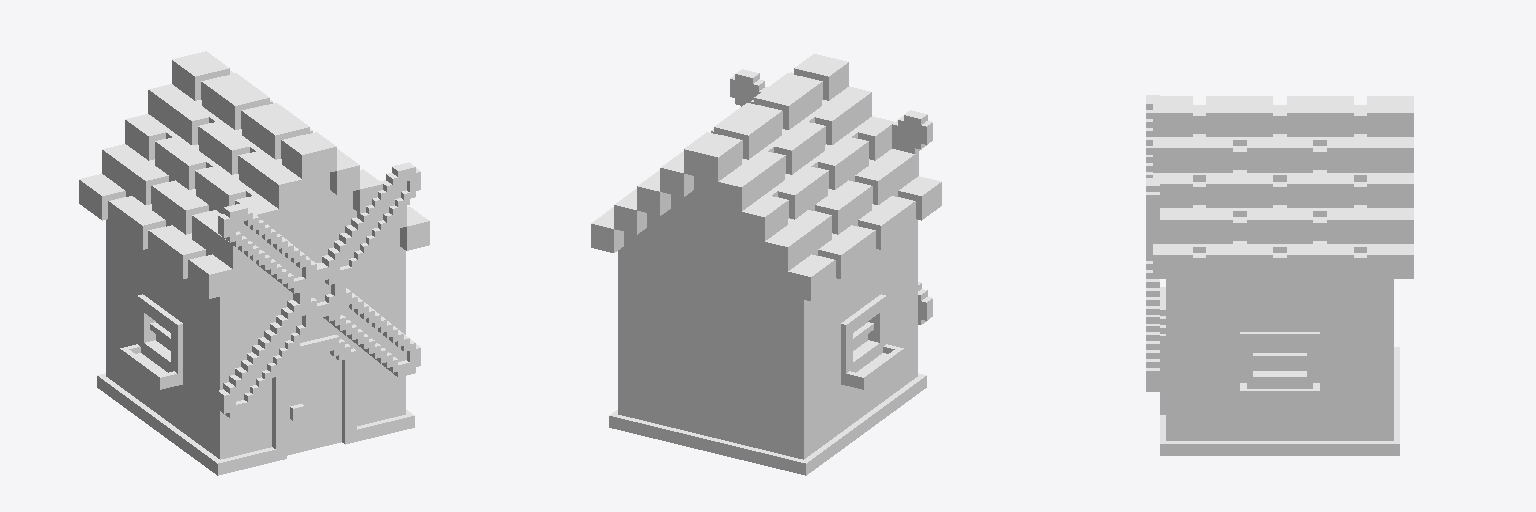
File: building4.vox.obj
3 views of the same model, side by side, from view 1: azimuth 30°, elevation 25°; view 2: azimuth 150°, elevation 25°; view 3: azimuth 270°, elevation 25° (orthographic).
Parts seen in each view (by area): view 1: object 1; view 2: object 1; view 3: object 1.
Boxes of the visible parts, x1=… form: object 1: x1=79, y1=51, x2=429, y2=475; object 1: x1=591, y1=54, x2=941, y2=475; object 1: x1=1146, y1=95, x2=1413, y2=455.
Size of the model in its own units: 4 by 5 by 4.